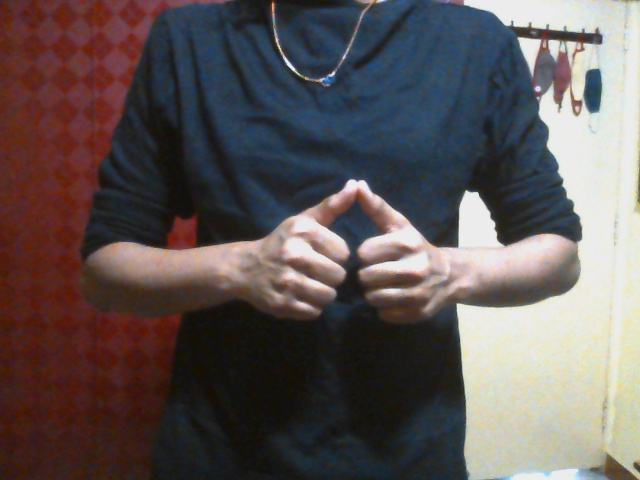A: (254, 178, 445, 327)
